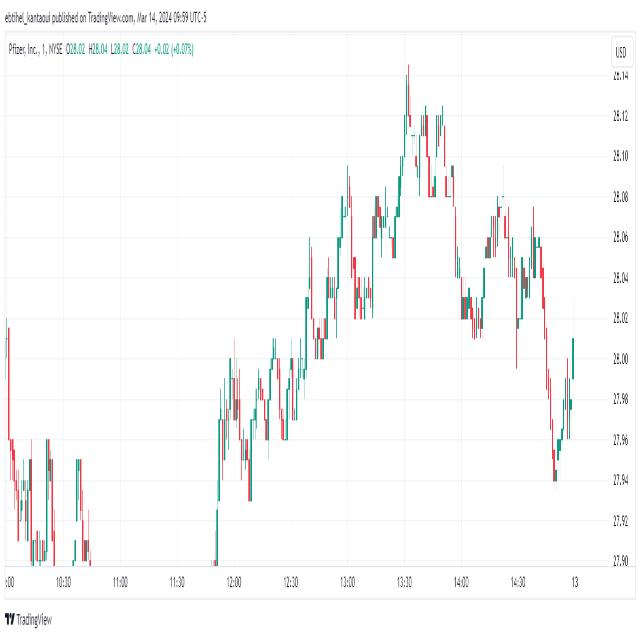Triple-Top: (396, 101, 456, 198)
